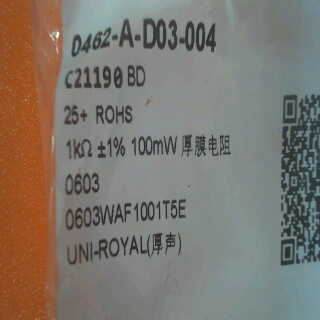1kR: (60, 134, 96, 163)
